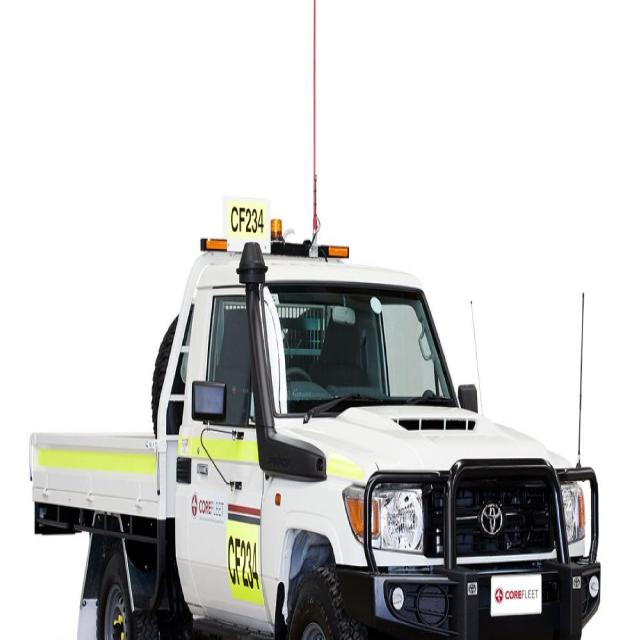light_vehicle: (21, 210, 601, 639)
